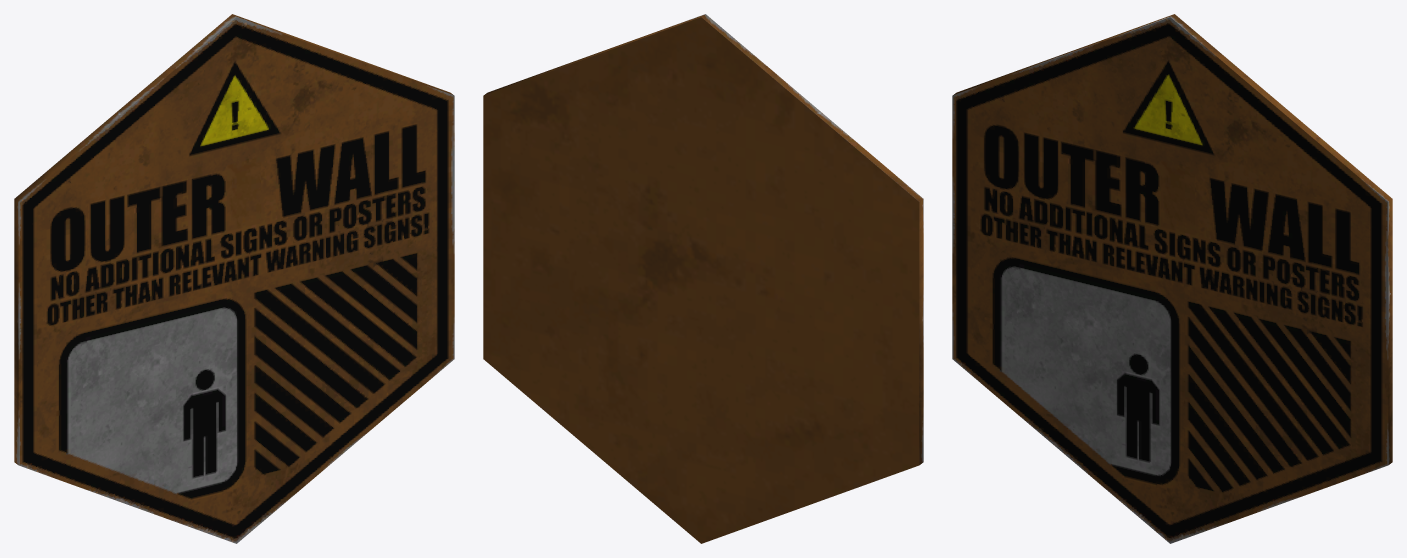
Rendered from sign_hex_wallrock.dae.
The picture shows the model from 3 angles, left to right: view 1: azimuth 30°, elevation 25°; view 2: azimuth 150°, elevation 25°; view 3: azimuth 330°, elevation 25°; orthographic projection.
Visible parts, largest first — view 1: sign_hex_wallrock; view 2: sign_hex_wallrock; view 3: sign_hex_wallrock.
Part boxes in pixels (<box>): sign_hex_wallrock: <box>14,14,454,543</box>; sign_hex_wallrock: <box>483,14,923,543</box>; sign_hex_wallrock: <box>952,14,1392,543</box>.
Size of the model in its own units: 0.3889 by 0.4491 by 0.00673.
